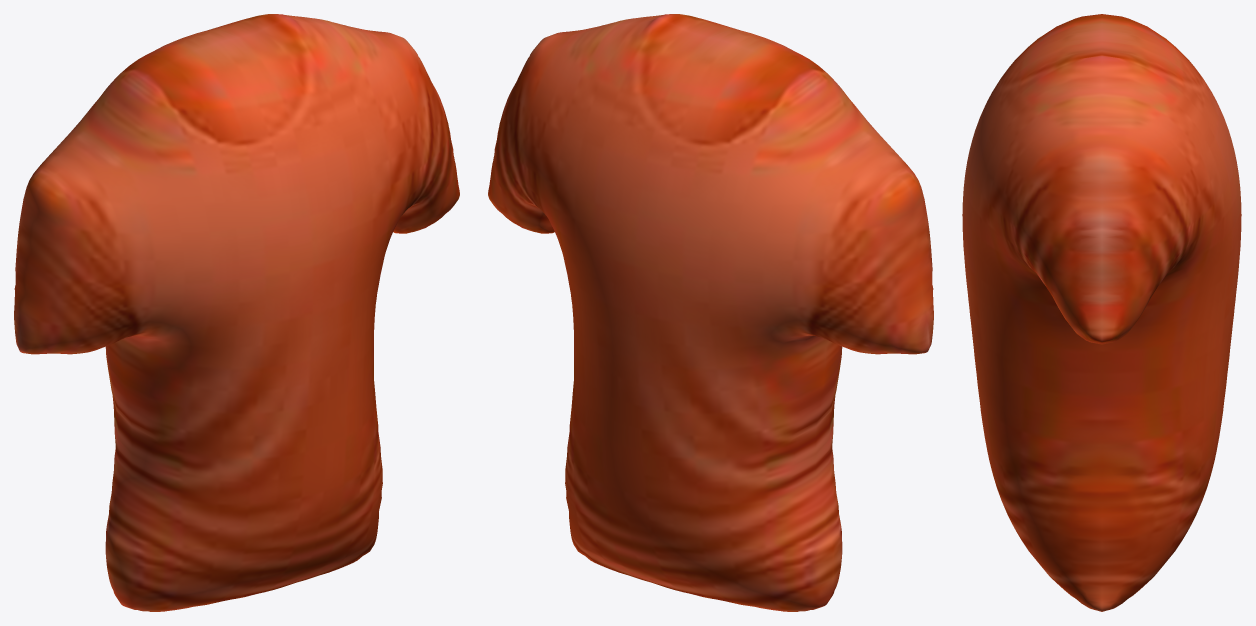
File: cloth@24=cloth_front.glb
The picture shows the model from 3 angles, left to right: view 1: azimuth 30°, elevation 25°; view 2: azimuth 150°, elevation 25°; view 3: azimuth 270°, elevation 25°; orthographic projection. The views are drawn at different scales.
Size of the model in its own units: 4.46 by 5.39 by 2.59.
1 material, 1 textured.
